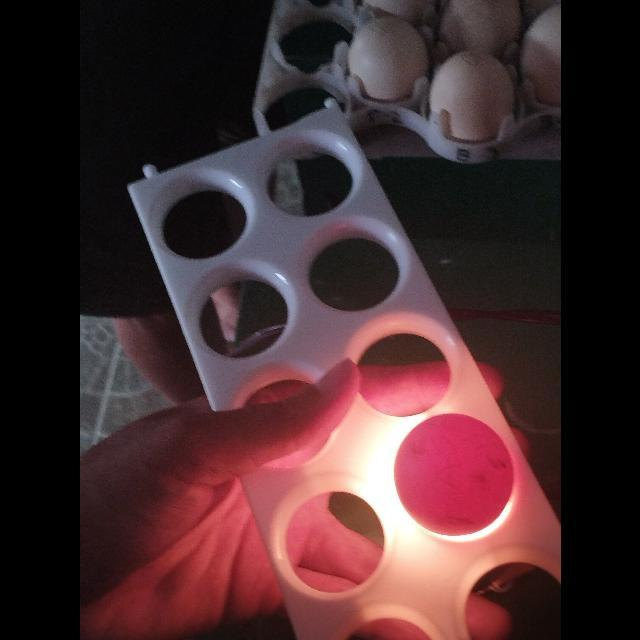Infertile: (392, 410, 518, 538)
